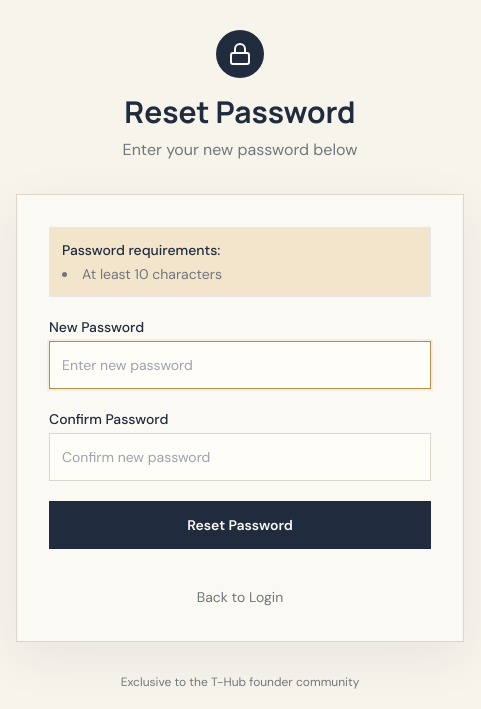
it: ResetPasswordPage › with valid token › shows validation error for empty password
Click the button "Reset Password": (240, 525) [49,501,431,549]
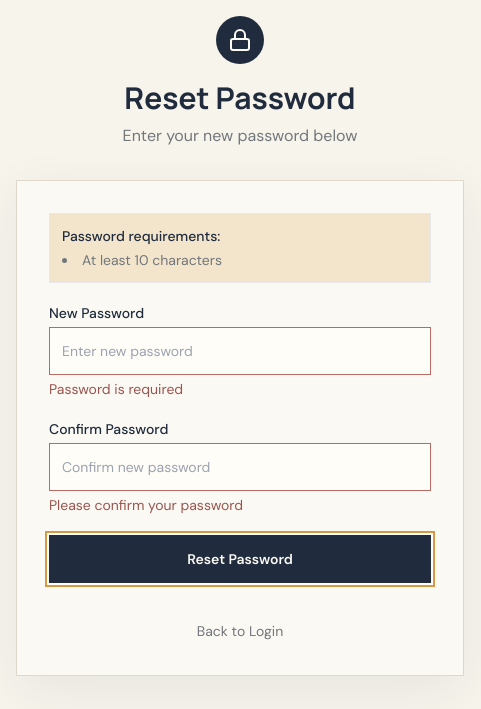
Expected: the text "Password is required" is shown, [49,380,183,398]
